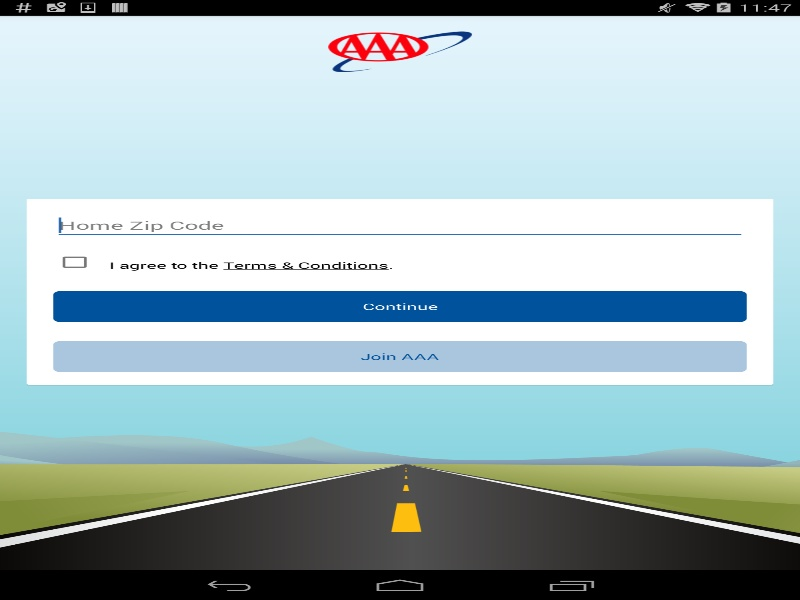Button: (53, 290, 746, 322), (53, 340, 746, 372)
Input: (53, 211, 746, 239)
